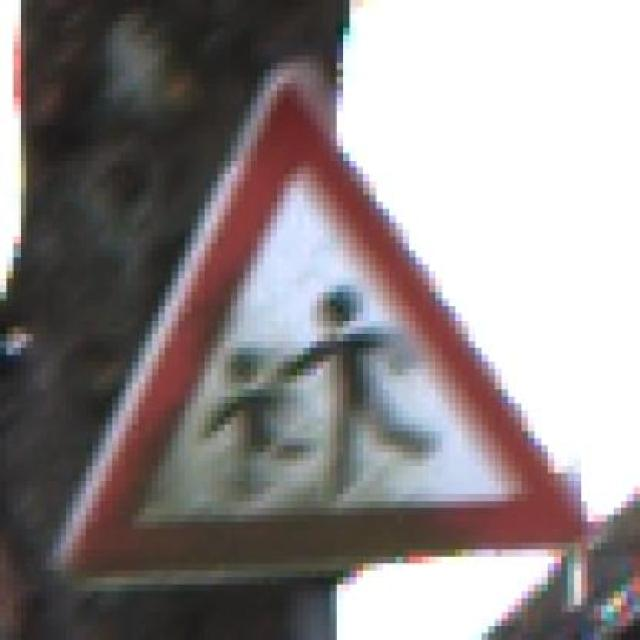Beware of children: (46, 56, 608, 584)
